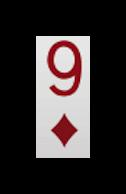9D: (41, 38, 86, 150)
